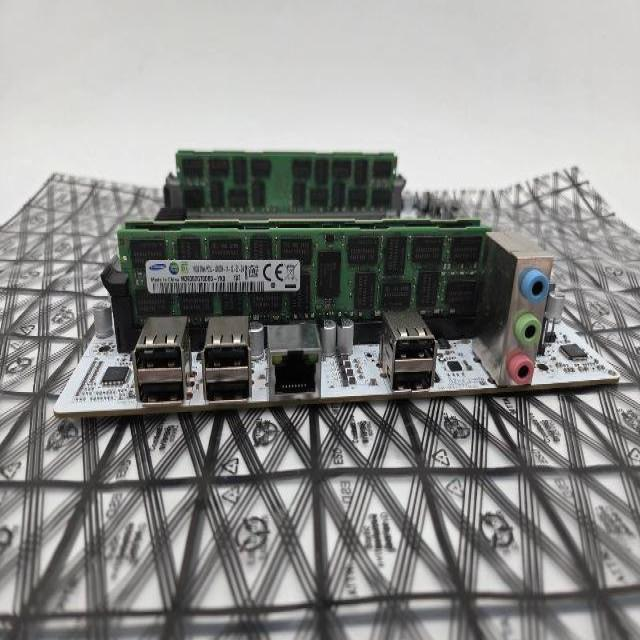RAM: (116, 224, 494, 328), (174, 150, 398, 217)
